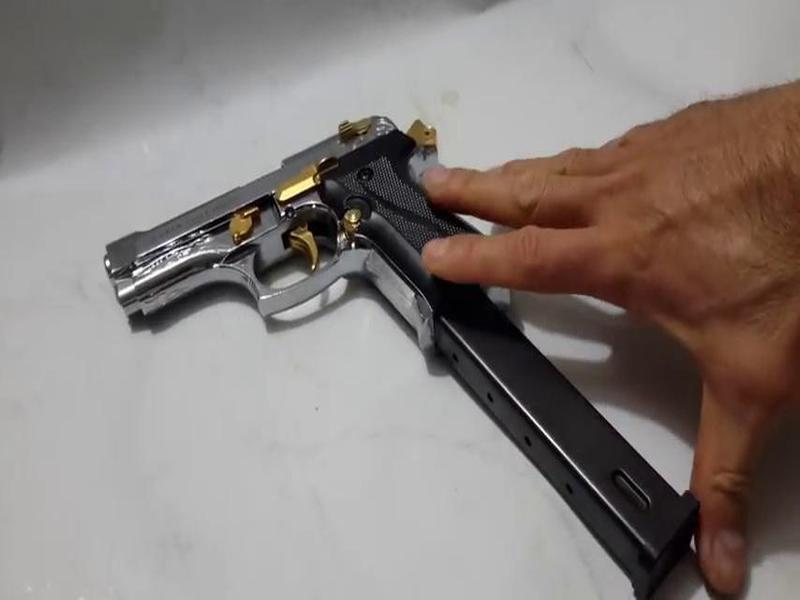Pistola: (88, 111, 527, 330)
